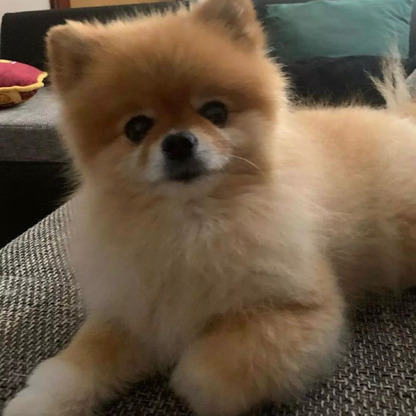Pomeranian: (36, 25, 383, 383)
